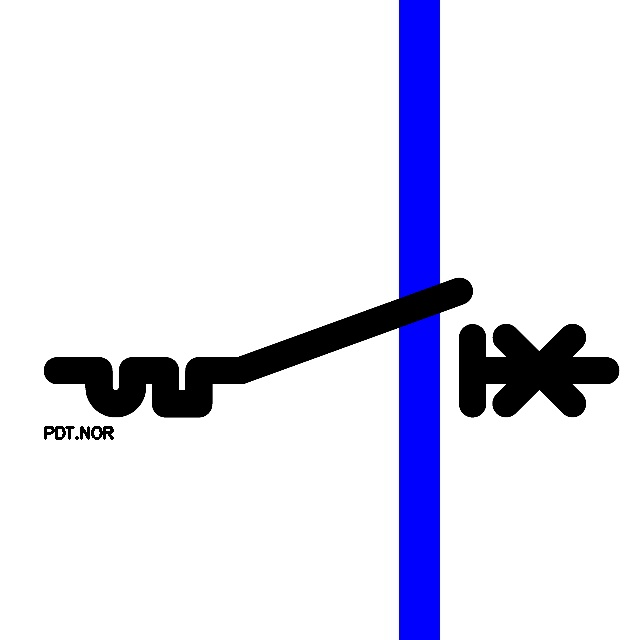interruptor_termomagnetico: (43, 277, 620, 418)
